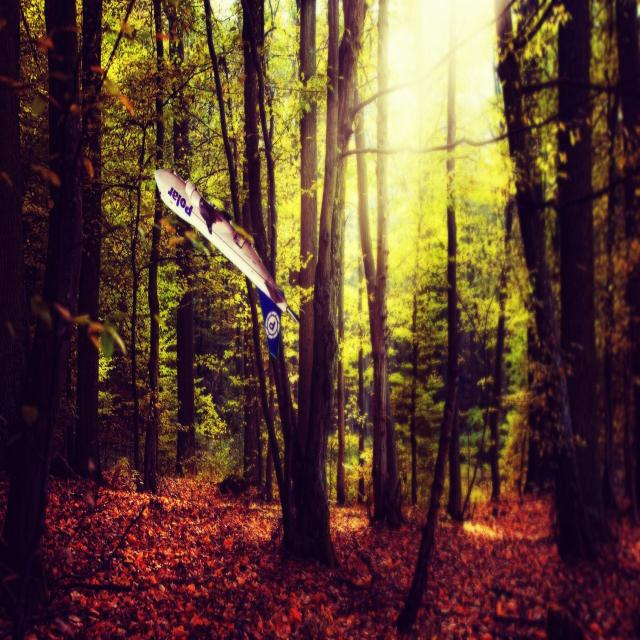airplane: (154, 167, 300, 360)
